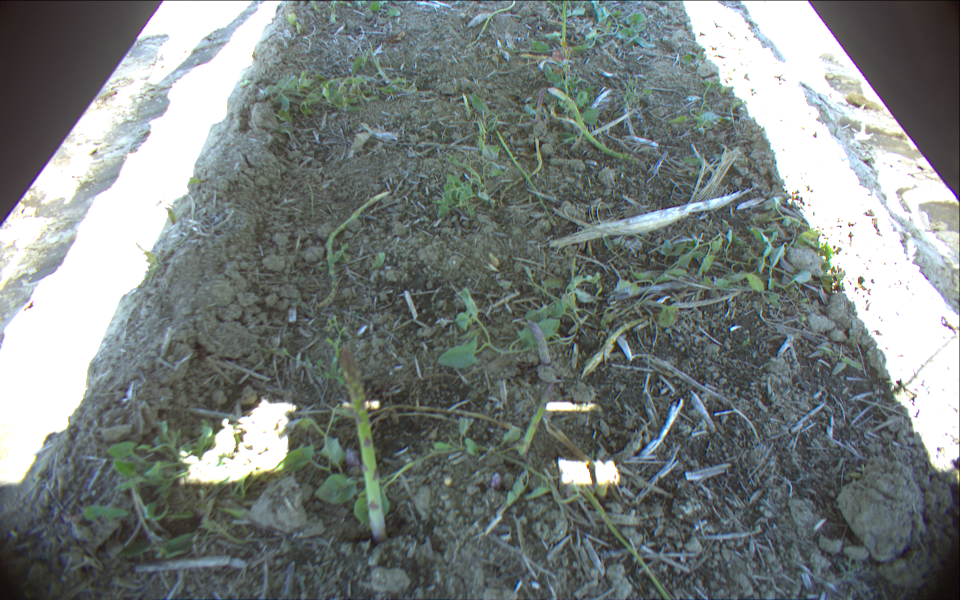aspa: (332, 346, 387, 543)
